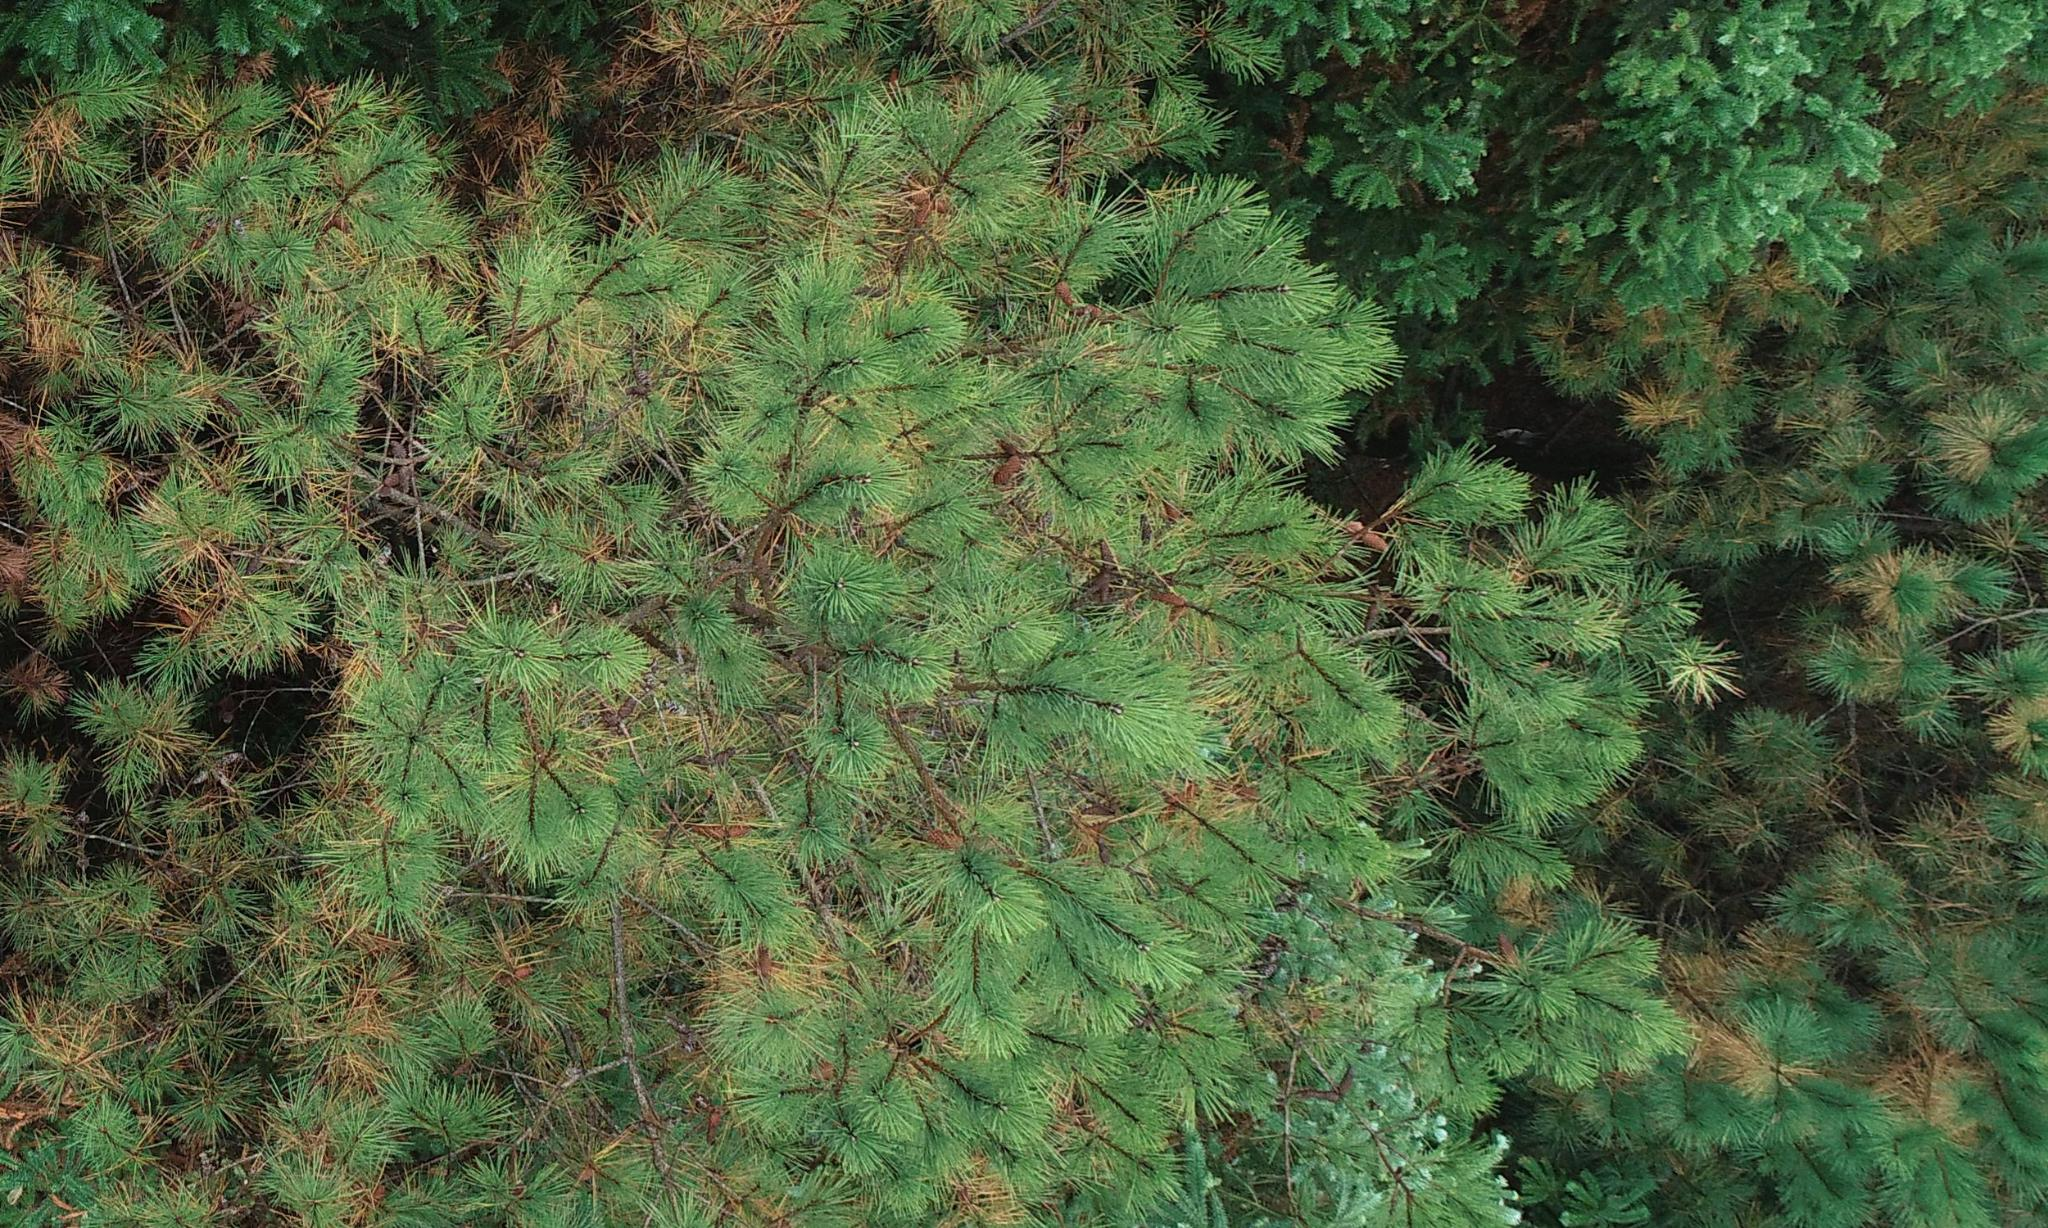light: (13, 22, 2020, 1202)
